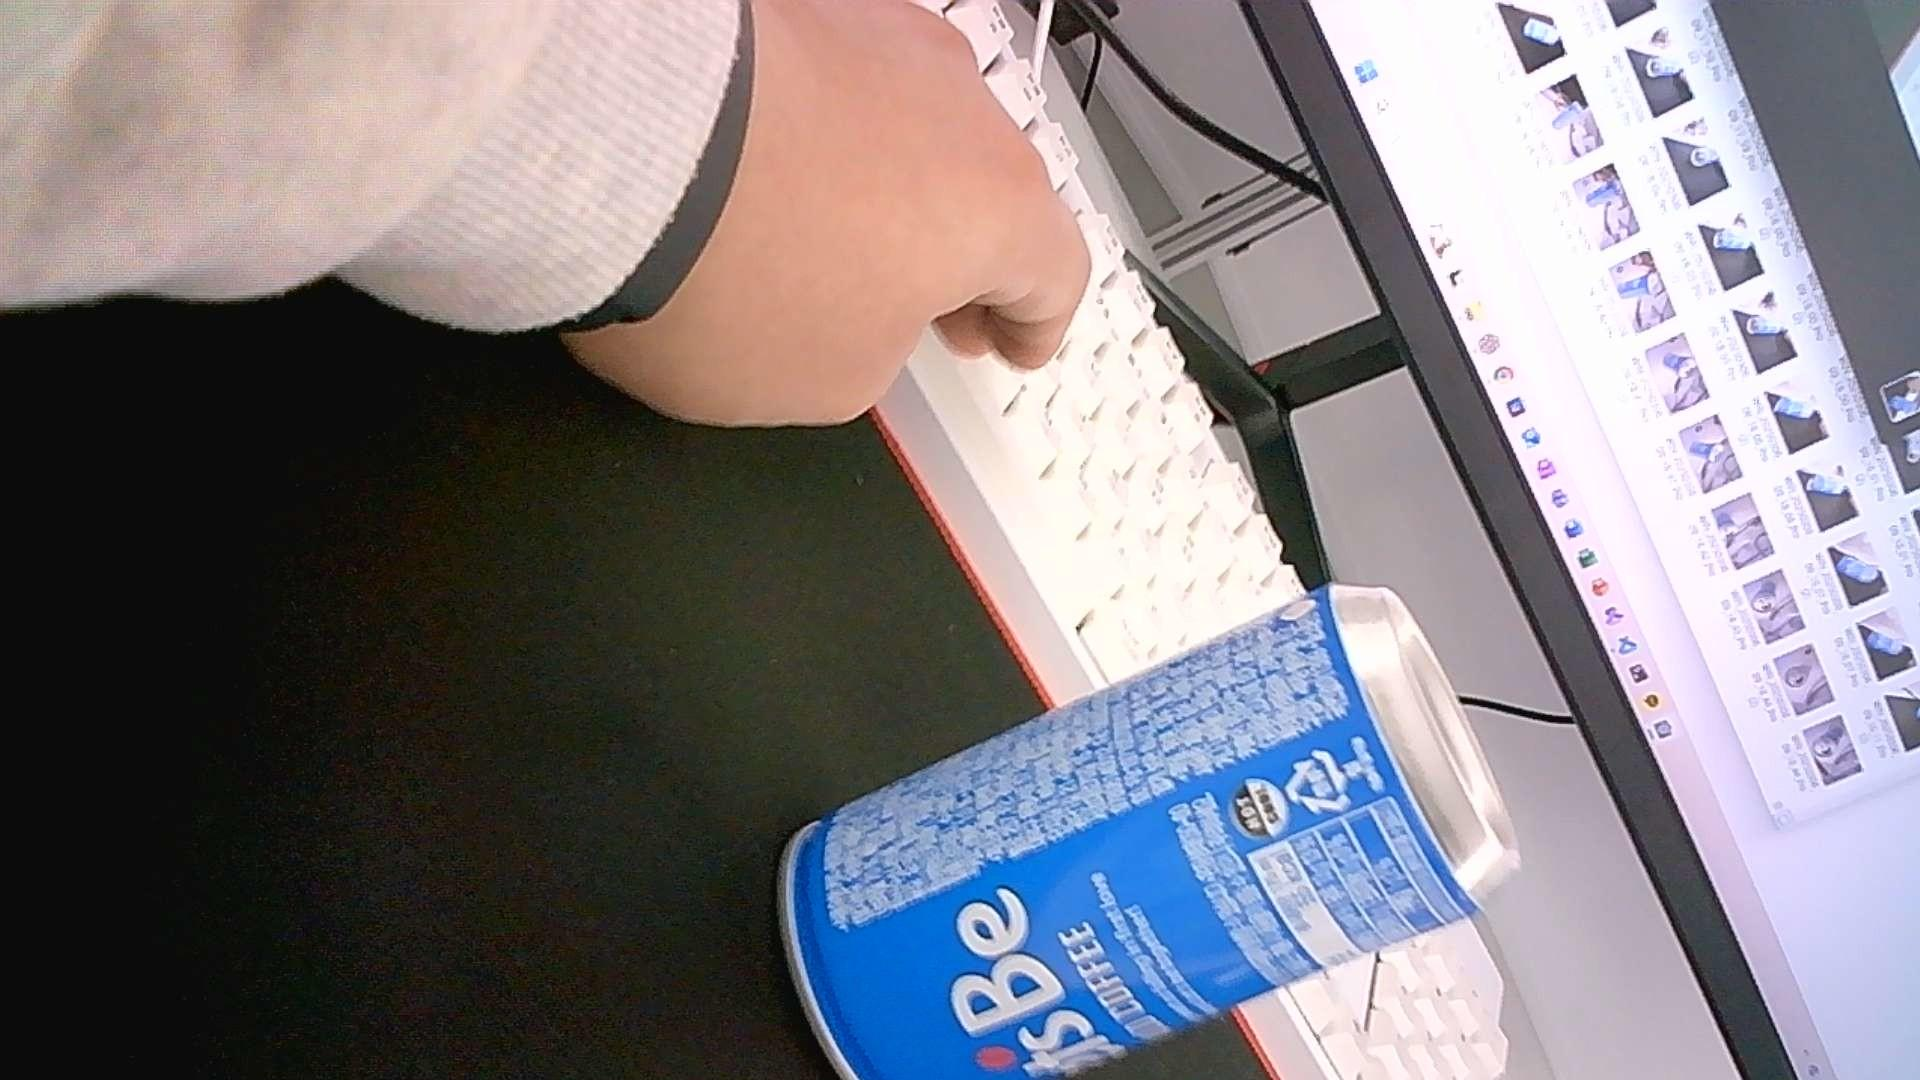letsbe: (778, 583, 1523, 1080)
